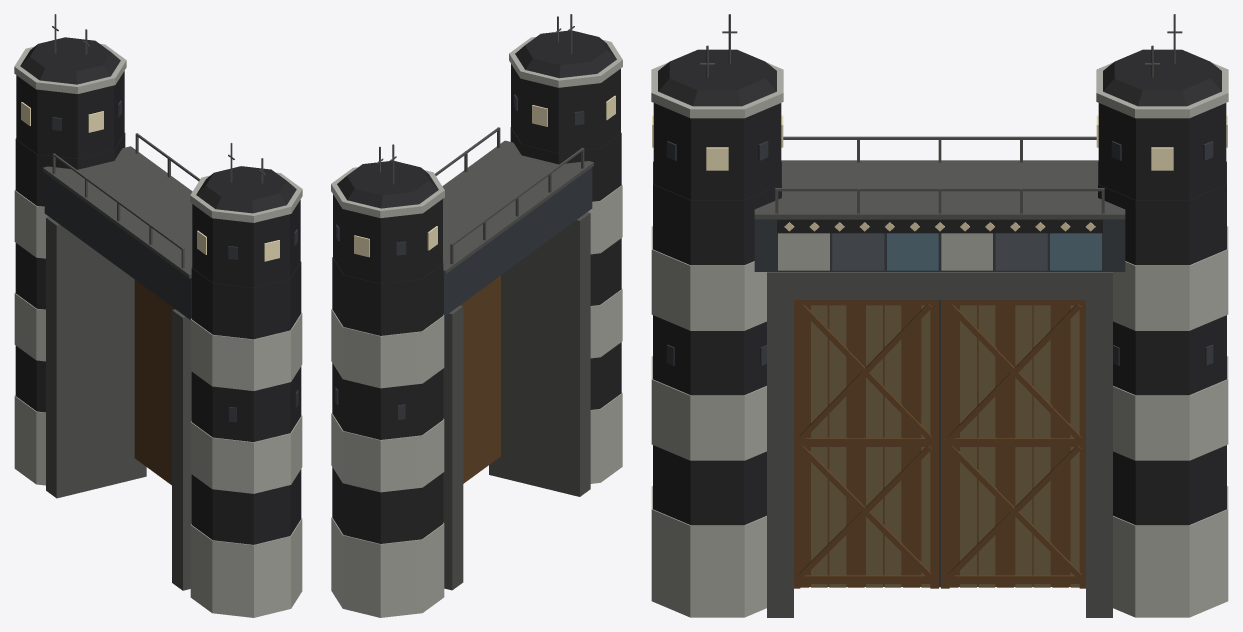
The model's file is fort_ship_gate.glb.
3 views of the same model, side by side, from view 1: azimuth 30°, elevation 25°; view 2: azimuth 150°, elevation 25°; view 3: azimuth 270°, elevation 25° (orthographic). The views are drawn at different scales.
Visible parts, largest first — view 1: fort_ship_gate; view 2: fort_ship_gate; view 3: fort_ship_gate.
Boxes of the visible parts, bbox=[...] form: fort_ship_gate: bbox=[14, 14, 302, 617]; fort_ship_gate: bbox=[331, 14, 622, 617]; fort_ship_gate: bbox=[651, 14, 1228, 617].
Bounding box in the file's own units: 5.49 × 25.4 × 23.36.
